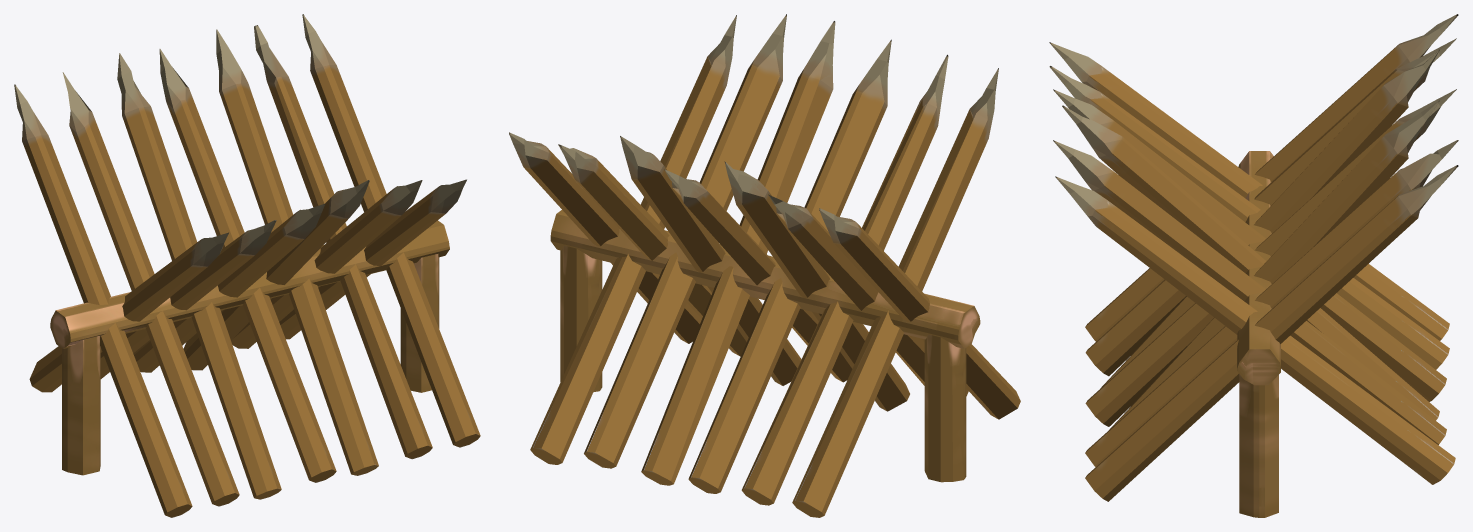
File: Pallisade.fbx
3 renders of one model, left to right at view 1: azimuth 30°, elevation 25°; view 2: azimuth 150°, elevation 25°; view 3: azimuth 270°, elevation 25°, orthographic. The views are drawn at different scales.
Parts seen in each view (by area): view 1: Spike1.003, Spike3, Spike1, Spike2.005, Spike2, Spike3.002, Spike3.001, Cube, Cube.003, Spike2.004, Spike1.001, Spike1.005 (+4 smaller); view 2: Spike1.005, Spike1.001, Spike1.002, Spike2.004, Spike2.001, Spike2.002, Cube, Spike3, Spike1.003, Cube.003, Spike1, Spike3.002 (+4 smaller); view 3: Spike2.001, Spike3.002, Spike1.001, Spike1.005, Spike3.001, Spike2.004, Spike1, Spike2.002, Spike1.003, Spike2, Spike1.002, Spike2.005 (+3 smaller).
Part boxes in pixels (left/top/right/bottom): Spike1.003: left=117, top=53, right=281, bottom=499; Spike3: left=14, top=84, right=192, bottom=517; Spike1: left=216, top=29, right=378, bottom=475; Spike2.005: left=62, top=72, right=239, bottom=506; Spike2: left=159, top=49, right=336, bottom=482; Spike3.002: left=302, top=14, right=480, bottom=447; Spike3.001: left=254, top=25, right=432, bottom=459; Cube: left=50, top=220, right=449, bottom=348; Cube.003: left=62, top=336, right=100, bottom=475; Spike2.004: left=29, top=232, right=228, bottom=392; Spike1.001: left=231, top=180, right=422, bottom=348; Spike1.005: left=183, top=180, right=369, bottom=370; Spike1.005: left=641, top=21, right=835, bottom=485; Spike1.001: left=584, top=14, right=786, bottom=468; Spike1.002: left=688, top=39, right=891, bottom=493; Spike2.004: left=792, top=68, right=998, bottom=517; Spike2.001: left=530, top=15, right=736, bottom=464; Spike2.002: left=741, top=54, right=948, bottom=505; Cube: left=550, top=210, right=980, bottom=348; Spike3: left=819, top=208, right=1020, bottom=419; Spike1.003: left=724, top=161, right=909, bottom=411; Cube.003: left=924, top=334, right=966, bottom=482; Spike1: left=620, top=136, right=801, bottom=385; Spike3.002: left=509, top=132, right=701, bottom=343; Spike2.001: left=1055, top=176, right=1455, bottom=484; Spike3.002: left=1085, top=165, right=1458, bottom=501; Spike1.001: left=1053, top=140, right=1446, bottom=444; Spike1.005: left=1062, top=105, right=1439, bottom=420; Spike3.001: left=1085, top=140, right=1458, bottom=466; Spike2.004: left=1049, top=42, right=1449, bottom=340; Spike1: left=1109, top=100, right=1439, bottom=429; Spike2.002: left=1049, top=66, right=1449, bottom=369; Spike1.003: left=1100, top=49, right=1439, bottom=388; Spike2: left=1085, top=89, right=1456, bottom=426; Spike1.002: left=1053, top=89, right=1446, bottom=401; Spike2.005: left=1085, top=38, right=1456, bottom=376.
Size of the model in its own units: 596 by 508 by 519.
Materials: 3 (3 with a texture image).
